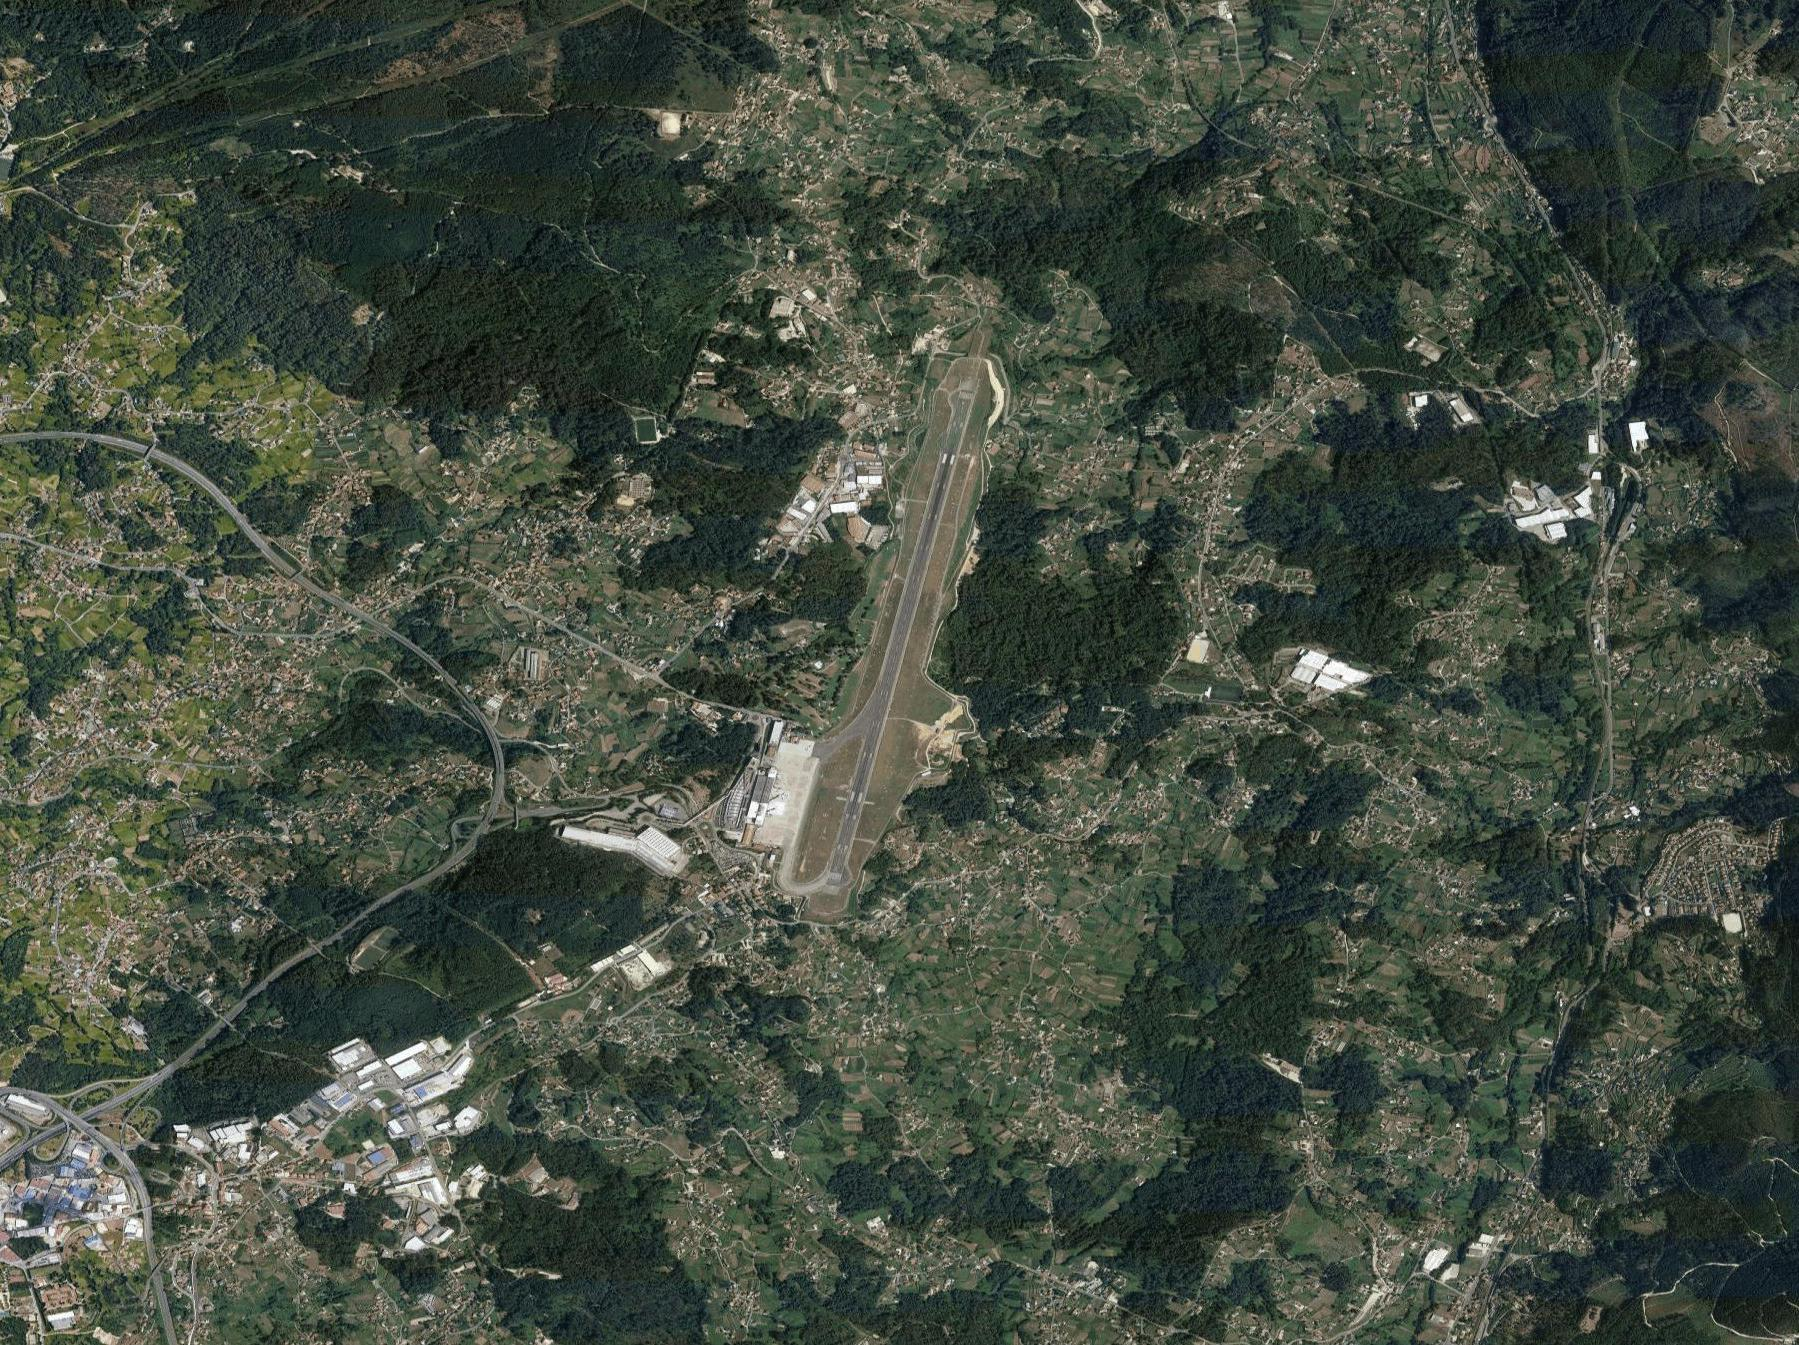airport: (712, 340, 1017, 923)
industrial: (309, 1041, 482, 1243)
motorway: (1, 1084, 126, 1163), (121, 1013, 227, 1096), (225, 932, 328, 1016), (330, 865, 439, 940), (1, 413, 158, 462), (162, 454, 256, 535), (251, 528, 343, 609), (435, 774, 510, 870), (438, 677, 514, 770), (342, 606, 439, 678), (145, 1250, 184, 1345), (121, 1156, 160, 1250)
